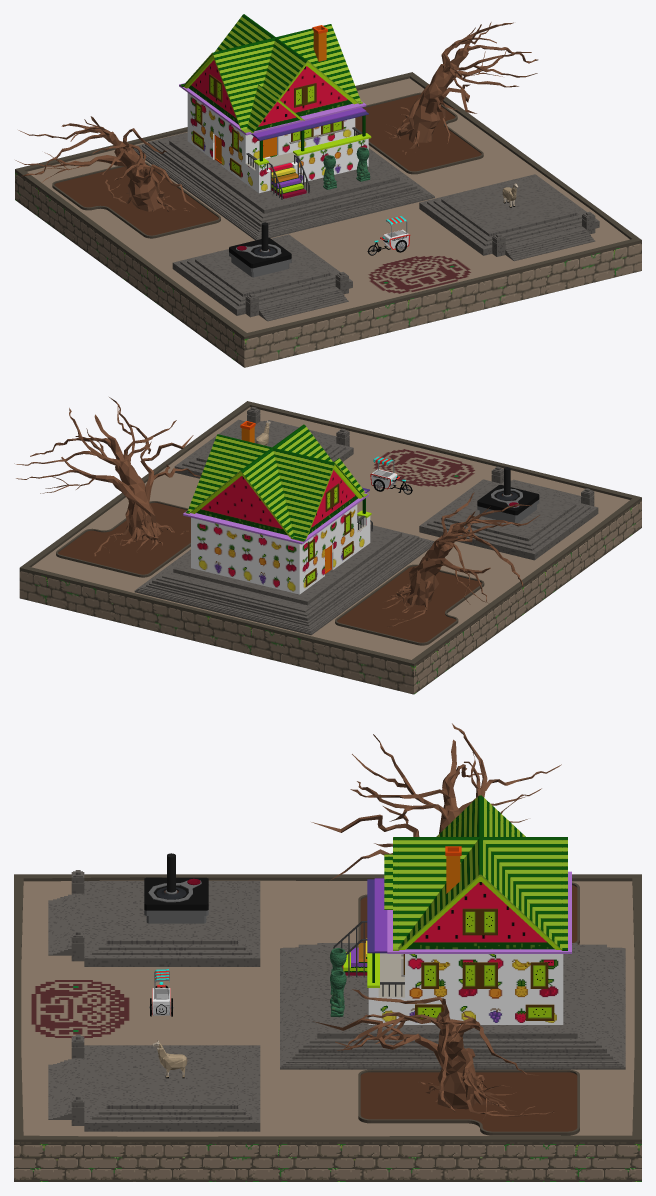
3 views of the same model, one above another, from view 1: azimuth 30°, elevation 25°; view 2: azimuth 150°, elevation 25°; view 3: azimuth 270°, elevation 25° (orthographic). The views are drawn at different scales.
Parts seen in each view (by area): view 1: Cube.011, Cube.1063, OBJRANDOM_JOYSTICK, VEHICLES_SNOWBAL_BIKE; view 2: Cube.011, Cube.1063, OBJRANDOM_JOYSTICK, VEHICLES_SNOWBAL_BIKE; view 3: Cube.011, Cube.1063, OBJRANDOM_JOYSTICK, VEHICLES_SNOWBAL_BIKE.
Part boxes in pixels (x1,y1,x2,y2): Cube.011: (15, 22, 641, 367); Cube.1063: (179, 14, 371, 199); OBJRANDOM_JOYSTICK: (229, 222, 291, 277); VEHICLES_SNOWBAL_BIKE: (367, 216, 410, 255); Cube.011: (14, 397, 641, 694); Cube.1063: (183, 421, 372, 594); OBJRANDOM_JOYSTICK: (477, 467, 539, 523); VEHICLES_SNOWBAL_BIKE: (370, 456, 412, 494); Cube.011: (14, 723, 641, 1181); Cube.1063: (333, 795, 571, 1024); OBJRANDOM_JOYSTICK: (144, 853, 208, 923); VEHICLES_SNOWBAL_BIKE: (149, 969, 173, 1016).
Bounding box in the file's own units: 5099 × 1761 × 4000.
35 materials, 7 textured.
